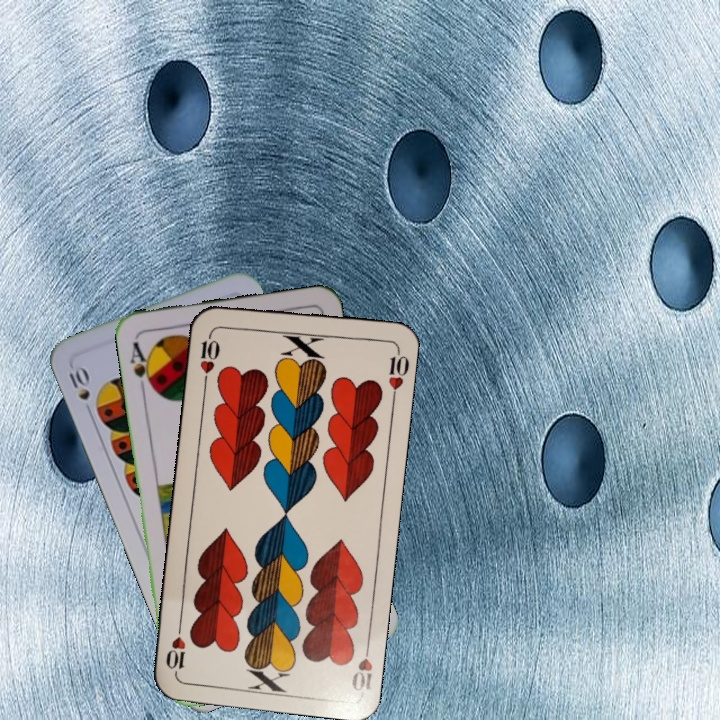H10: (195, 327, 223, 386), (347, 636, 375, 694)
S10: (65, 362, 95, 419)
SA: (126, 338, 157, 395)
